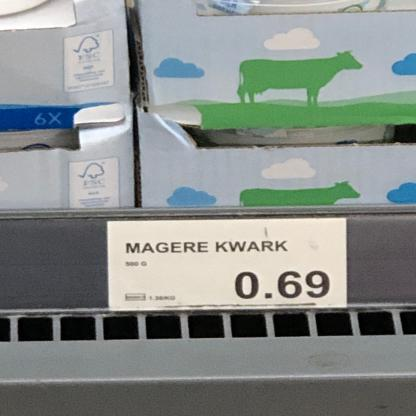prtg: (109, 219, 347, 311)
